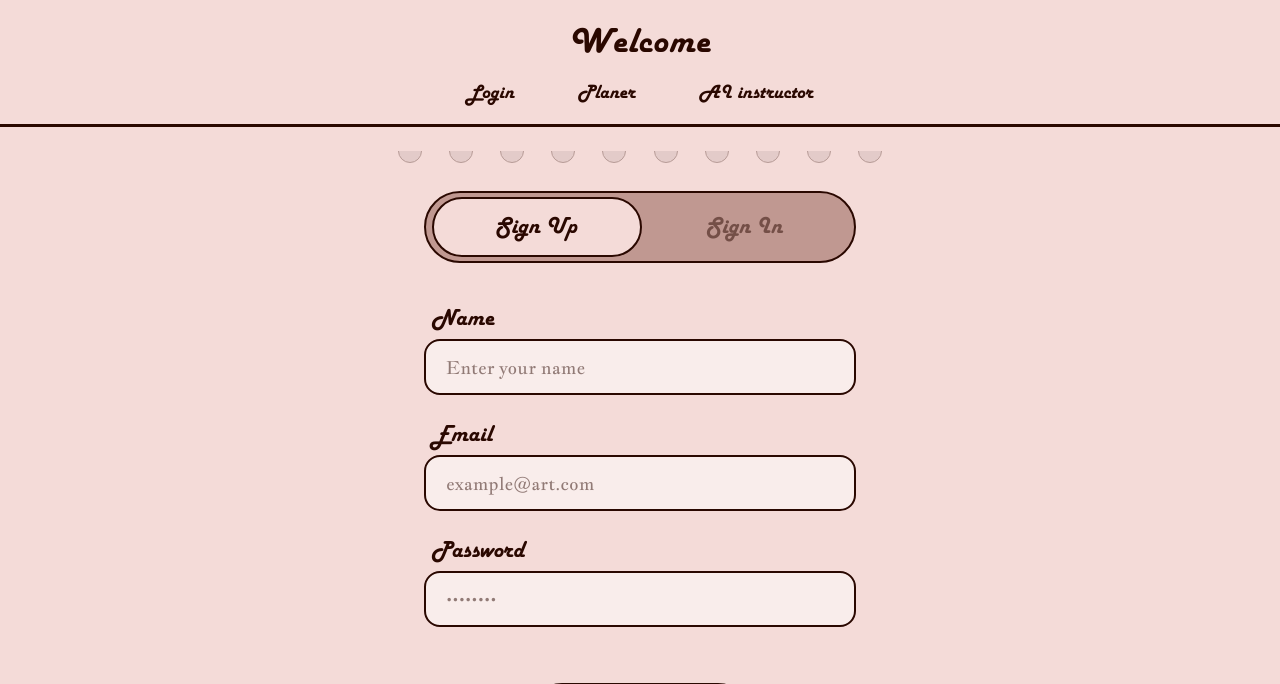
Test case: LoginForm Component › перемикає режим між Sign Up та Sign In
The image size is (1280, 684).
// Клікаємо на таб "Sign In" (зазвичай це другий елемент у перемикачі)
Step 1. Click the button "Sign In" → (744, 227), box [640,199,848,255]
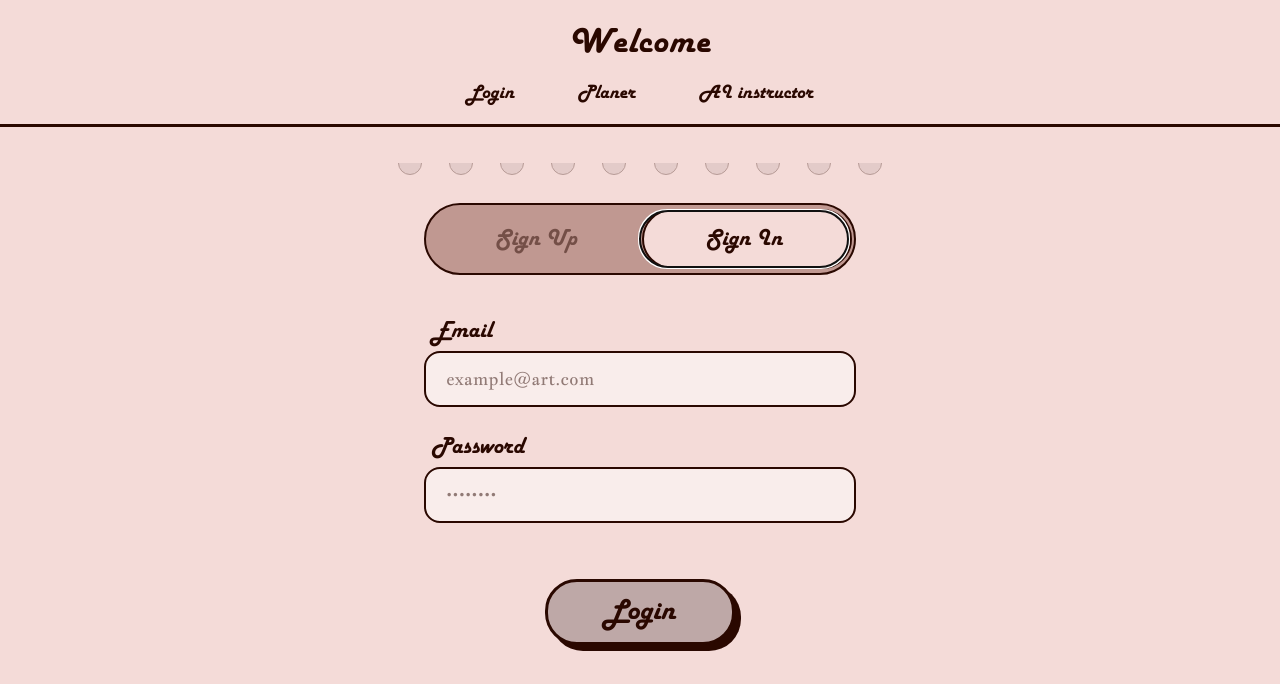
Expected: the field with placeholder "Enter your name" is not shown
Now the button "Login" below "Password" is shown, box [545,578,735,644]
